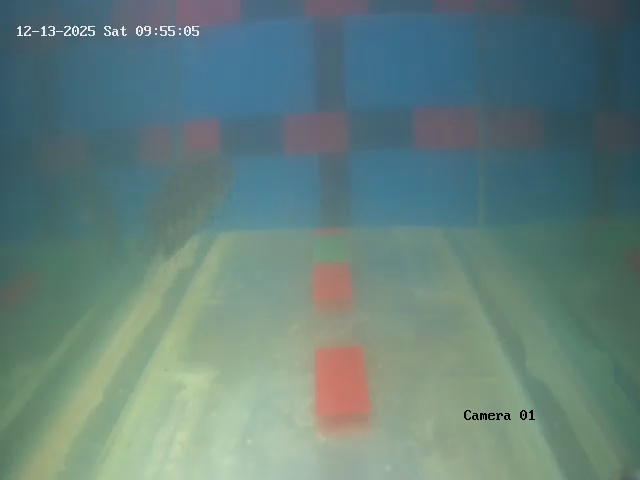fish: (137, 140, 263, 265)
